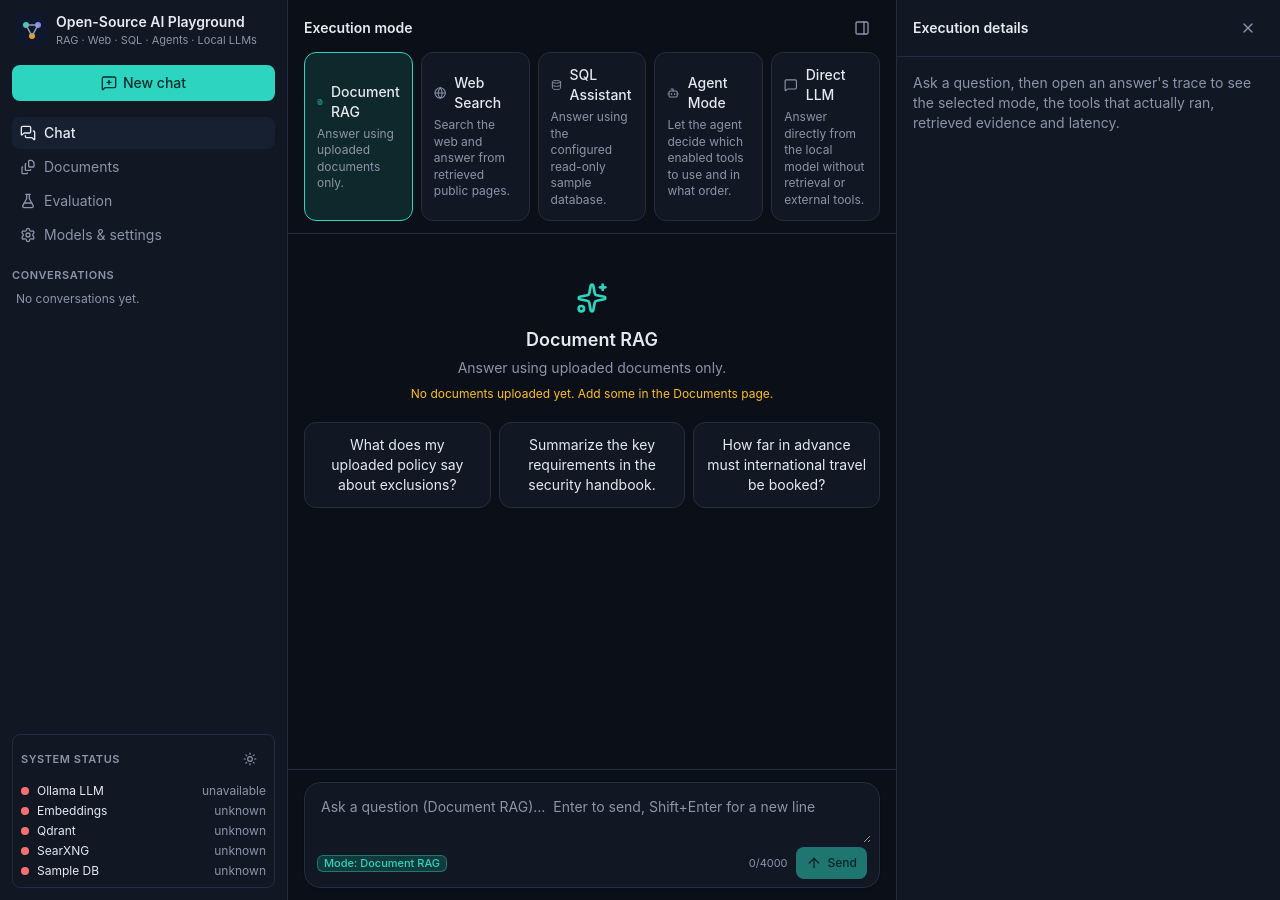
it: shows a helpful error when the model is unavailable
The image size is (1280, 900).
Click the radio button labelled "Direct LLM" at (826, 136), box [771,52,880,221]
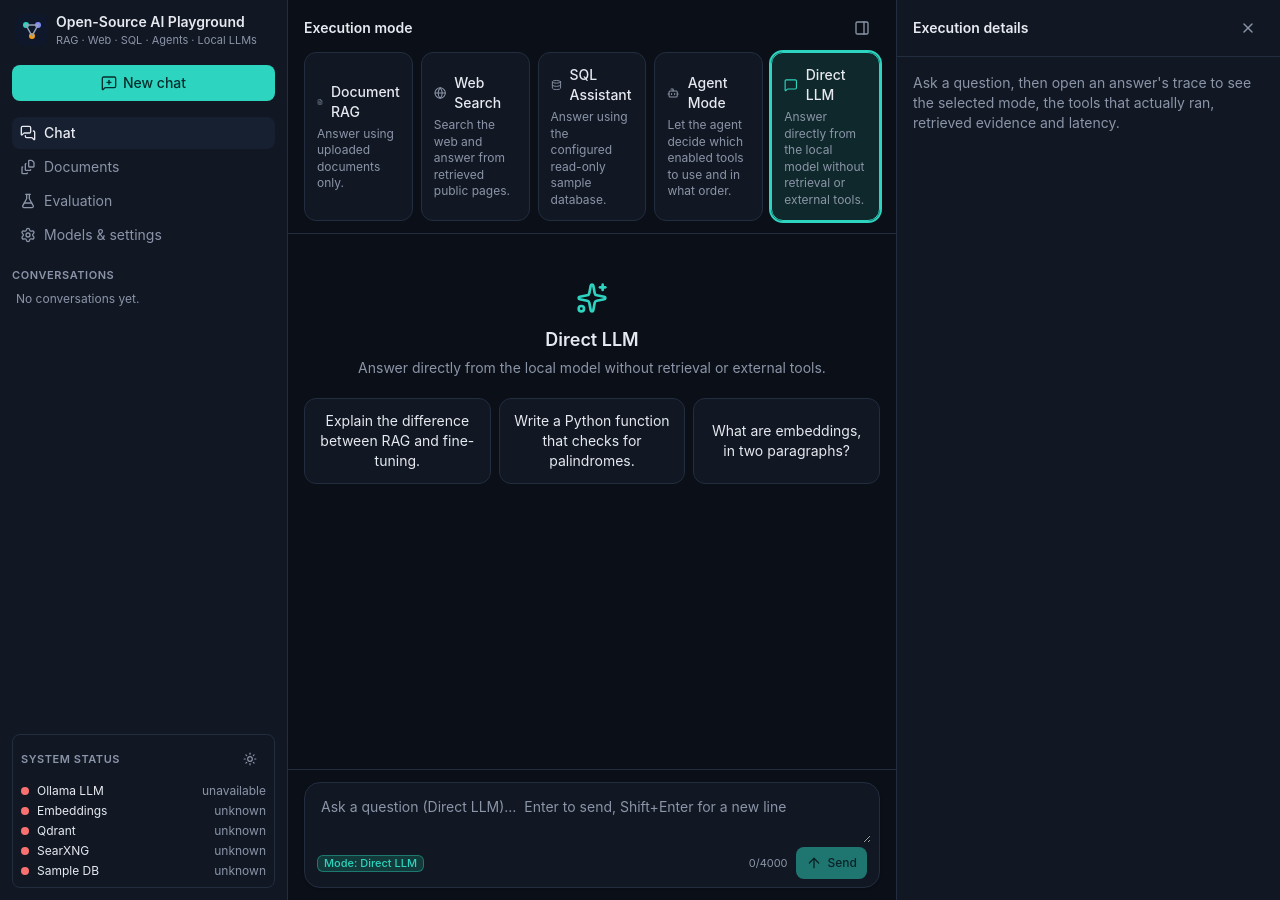
Type "hi" into the text box labelled "question" at (592, 817), box [313,791,871,843]
Then press Enter
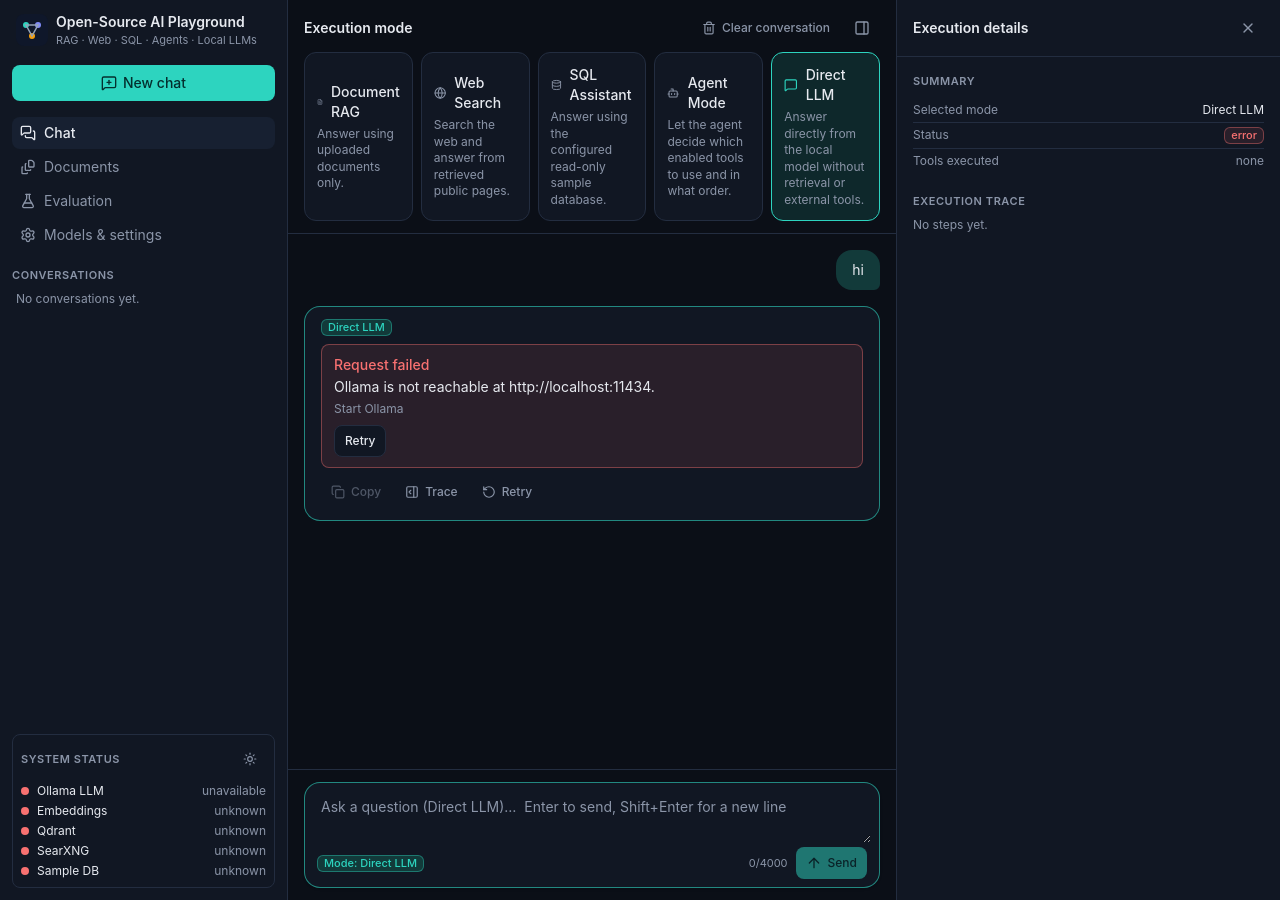
Now the message shows "Ollama is not reachable", box [334,378,655,395]
Now the message shows "Start Ollama", box [334,401,403,416]
Now the button "Retry" below "Start Ollama" is shown, box [334,425,386,457]
